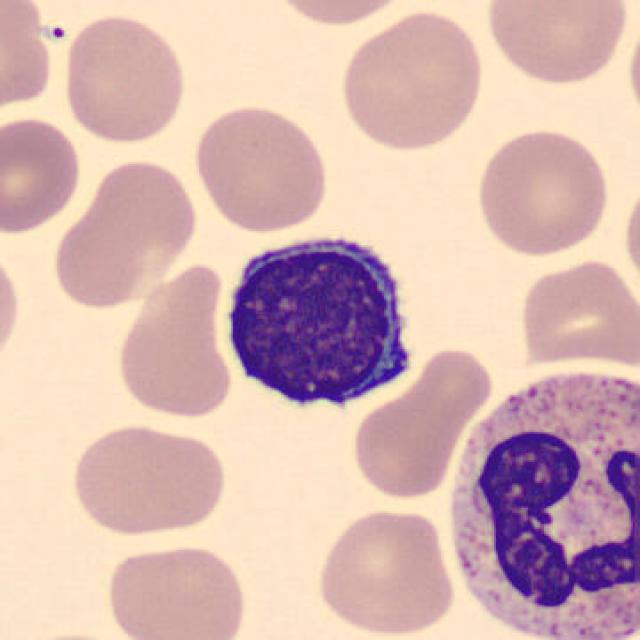Lymphocyte: (213, 224, 427, 420)
Neutrophil: (439, 359, 640, 640)
RBC: (48, 153, 203, 312), (348, 338, 494, 502), (336, 7, 487, 153), (112, 258, 235, 423), (313, 504, 459, 638), (66, 420, 229, 540), (471, 123, 612, 260), (188, 100, 332, 234), (59, 10, 190, 146), (101, 539, 250, 640), (514, 255, 638, 368), (480, 0, 633, 88), (0, 112, 85, 236), (0, 0, 57, 118), (263, 0, 420, 30), (0, 242, 25, 374), (620, 172, 640, 292), (624, 4, 640, 134), (7, 627, 149, 640)
